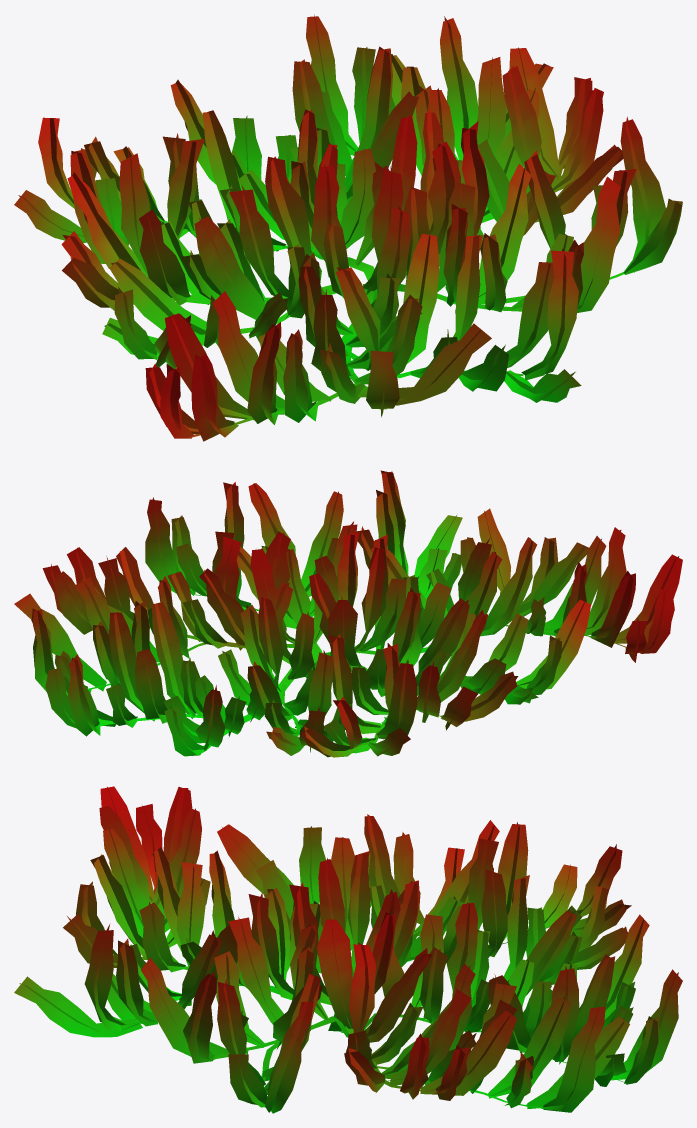
File: Var7_LOD3.fbx
3 renders of one model, top to bottom at view 1: azimuth 30°, elevation 25°; view 2: azimuth 150°, elevation 25°; view 3: azimuth 270°, elevation 25°, orthographic. The views are drawn at different scales.
Visible parts, largest first — view 1: _o72p_Var7_LOD3; view 2: _o72p_Var7_LOD3; view 3: _o72p_Var7_LOD3.
Boxes of the visible parts, left/top/right/bottom form: _o72p_Var7_LOD3: left=14, top=14, right=682, bottom=441; _o72p_Var7_LOD3: left=14, top=470, right=682, bottom=757; _o72p_Var7_LOD3: left=14, top=786, right=682, bottom=1113.
Bounding box in the file's own units: 79.18 × 21.22 × 84.46.
